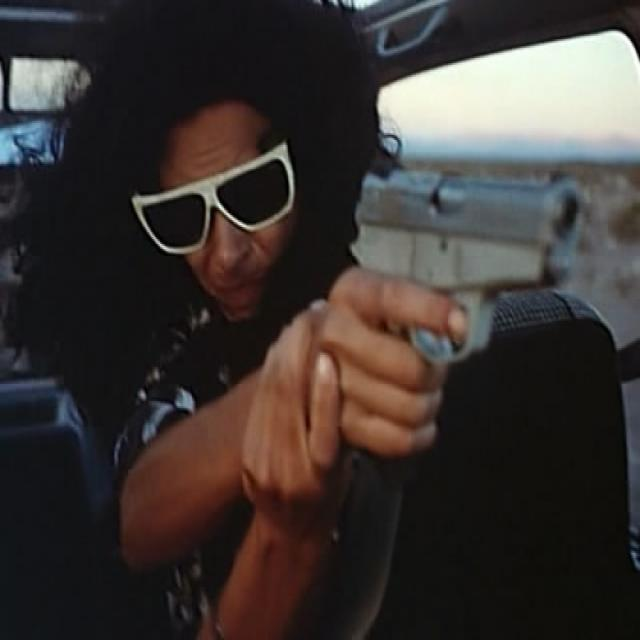weapons: (330, 126, 591, 432)
